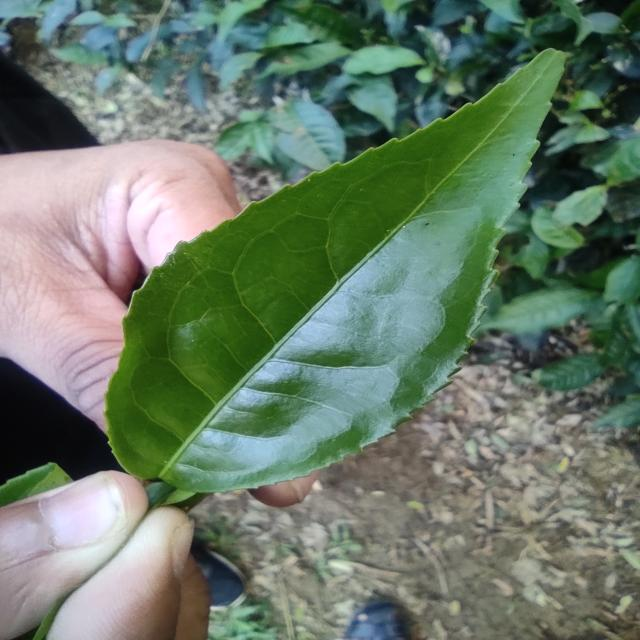Category C 4-7 days: (48, 20, 594, 526)
